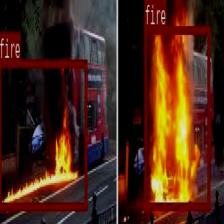fire: (0, 57, 87, 207), (144, 25, 209, 208)
